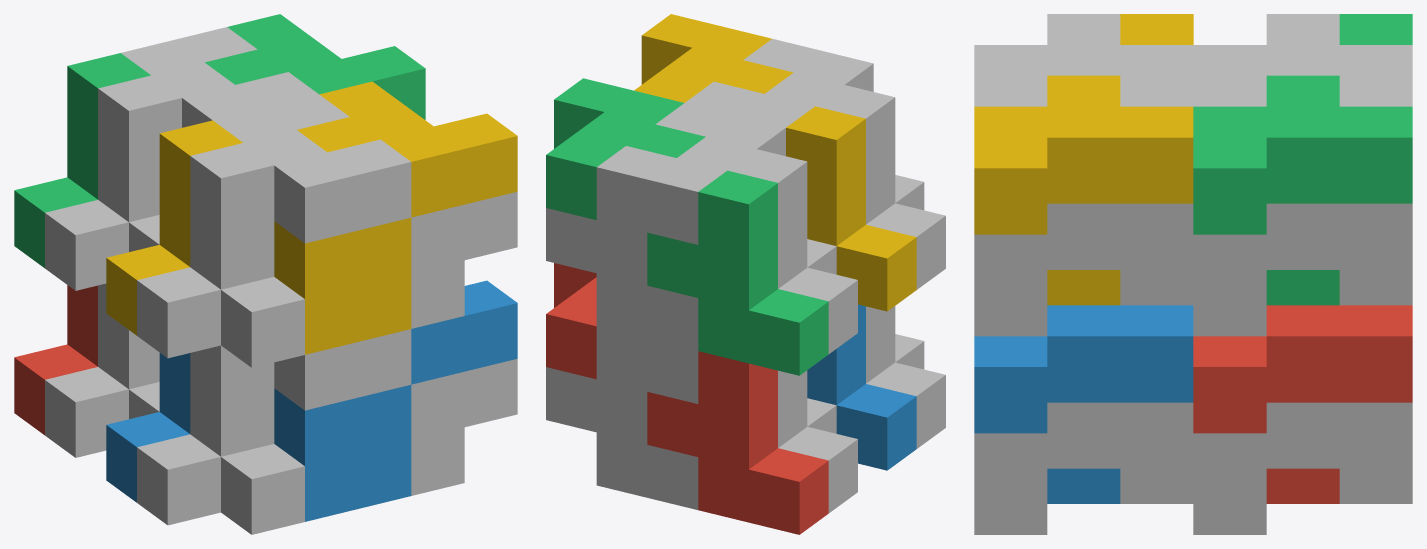
Rendered from tiling.obj.
3 renders of one model, left to right at view 1: azimuth 30°, elevation 25°; view 2: azimuth 150°, elevation 25°; view 3: azimuth 270°, elevation 25°, orthographic. The views are drawn at different scales.
Visible parts, largest first — view 1: copy_2_domain_4, copy_2_domain_2, copy_2_domain_3, copy_1_domain_4, copy_2_domain_8, copy_1_domain_2, copy_1_domain_8, copy_2_domain_6, copy_2_domain_1, copy_2_domain_7, copy_1_domain_6, copy_1_domain_3 (+2 smaller); view 2: copy_1_domain_3, copy_1_domain_1, copy_2_domain_3, copy_1_domain_7, copy_2_domain_4, copy_1_domain_5, copy_1_domain_4, copy_2_domain_7, copy_2_domain_8, copy_2_domain_1, copy_1_domain_2, copy_2_domain_2 (+2 smaller); view 3: copy_2_domain_7, copy_2_domain_8, copy_2_domain_5, copy_2_domain_6, copy_1_domain_7, copy_1_domain_8, copy_1_domain_5, copy_1_domain_6, copy_2_domain_3, copy_2_domain_4, copy_1_domain_3, copy_1_domain_4.
Part boxes in pixels (<box>): copy_2_domain_4: <box>137,107,411,367</box>; copy_2_domain_2: <box>137,329,411,534</box>; copy_2_domain_3: <box>45,40,318,290</box>; copy_1_domain_4: <box>106,120,411,354</box>; copy_2_domain_8: <box>297,81,517,341</box>; copy_1_domain_2: <box>106,353,411,521</box>; copy_1_domain_8: <box>266,94,517,328</box>; copy_2_domain_6: <box>358,280,517,508</box>; copy_2_domain_1: <box>45,283,159,457</box>; copy_2_domain_7: <box>205,14,425,119</box>; copy_1_domain_6: <box>411,359,517,495</box>; copy_1_domain_3: <box>14,53,150,268</box>; copy_1_domain_3: <box>647,170,828,375</box>; copy_1_domain_1: <box>647,351,828,534</box>; copy_2_domain_3: <box>647,103,857,353</box>; copy_1_domain_7: <box>546,146,698,350</box>; copy_2_domain_4: <box>736,39,945,289</box>; copy_1_domain_5: <box>546,326,698,509</box>; copy_1_domain_4: <box>786,106,916,311</box>; copy_2_domain_7: <box>546,78,705,219</box>; copy_2_domain_8: <box>634,14,793,102</box>; copy_2_domain_1: <box>647,339,857,513</box>; copy_1_domain_2: <box>807,304,916,470</box>; copy_2_domain_2: <box>866,306,945,448</box>; copy_2_domain_7: <box>1193,75,1412,305</box>; copy_2_domain_8: <box>974,75,1193,305</box>; copy_2_domain_5: <box>1193,305,1412,503</box>; copy_2_domain_6: <box>974,305,1193,503</box>; copy_1_domain_7: <box>1193,75,1412,336</box>; copy_1_domain_8: <box>974,75,1193,336</box>; copy_1_domain_5: <box>1193,402,1412,534</box>; copy_1_domain_6: <box>974,402,1193,534</box>; copy_2_domain_3: <box>1193,14,1412,106</box>; copy_2_domain_4: <box>974,14,1193,106</box>; copy_1_domain_3: <box>1339,14,1412,44</box>; copy_1_domain_4: <box>1120,14,1193,44</box>.
Bounding box in the file's own units: 6 × 6 × 6.
